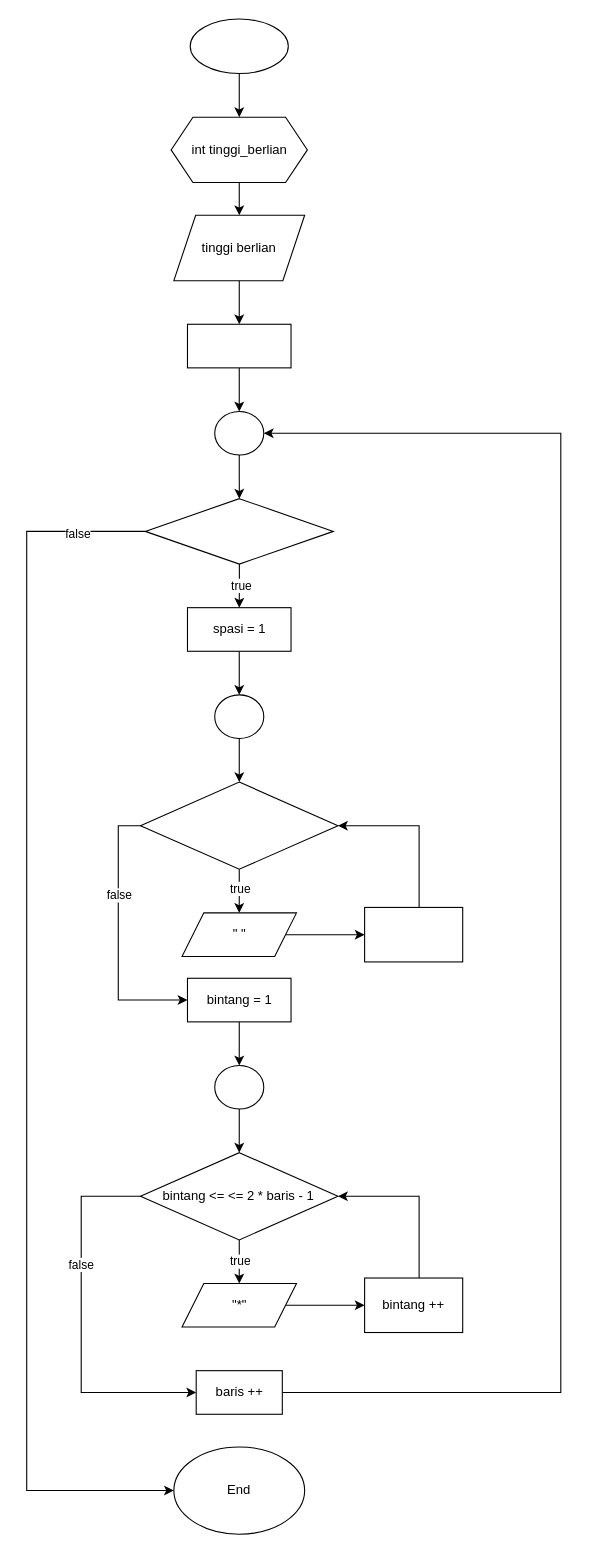
Some shapes in this 589 by 1553 pixel diagram are drawn without their labels. Here are the shapes that lost their labels. From the top down, the centre of each, then its label:
the point at 238,46: start
the point at 238,345: baris = 1
the point at 238,531: baris <= tinggi_berlian
the point at 238,825: spasi <= tinggi_berlian - baris
the point at 413,934: spasi ++
